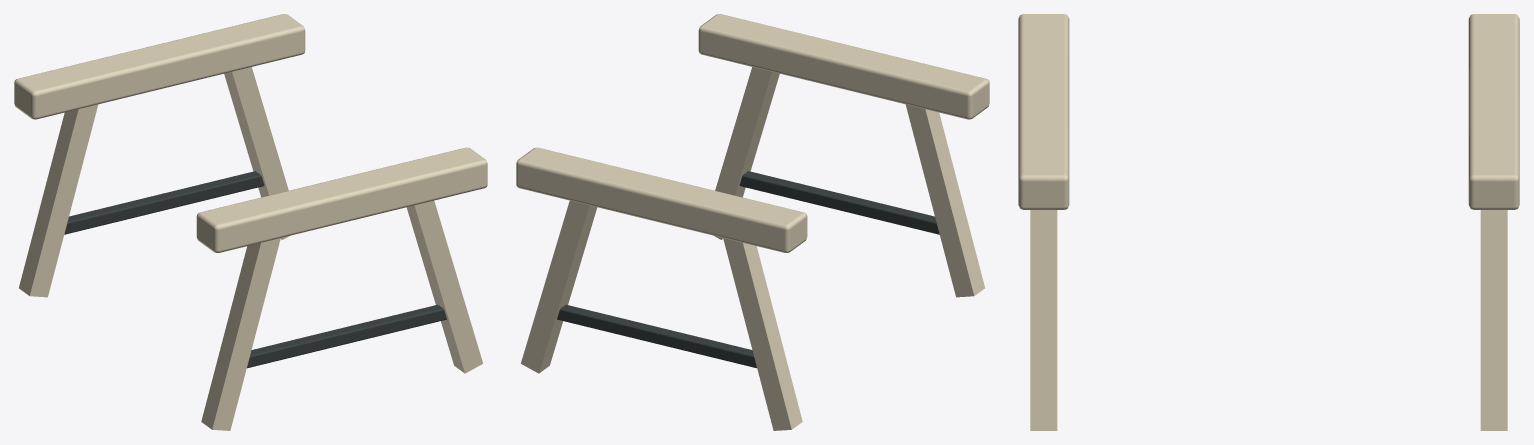
File: canal-boats-and-lock-operations-canal-boats-and-lock-o-9d1afe0e__31654.glb
3 views of the same model, side by side, from view 1: azimuth 30°, elevation 25°; view 2: azimuth 150°, elevation 25°; view 3: azimuth 270°, elevation 25° (orthographic). The views are drawn at different scales.
Visible parts, largest first — view 1: canal-boats-and-lock-operations-lock-gate-repair-trestles; view 2: canal-boats-and-lock-operations-lock-gate-repair-trestles; view 3: canal-boats-and-lock-operations-lock-gate-repair-trestles.
Part boxes in pixels (box(x1,y1,x2,y2)): canal-boats-and-lock-operations-lock-gate-repair-trestles: box(14, 14, 487, 430); canal-boats-and-lock-operations-lock-gate-repair-trestles: box(516, 14, 989, 430); canal-boats-and-lock-operations-lock-gate-repair-trestles: box(1018, 14, 1519, 430).
Size of the model in its own units: 1.3 by 0.9627 by 1.67.
